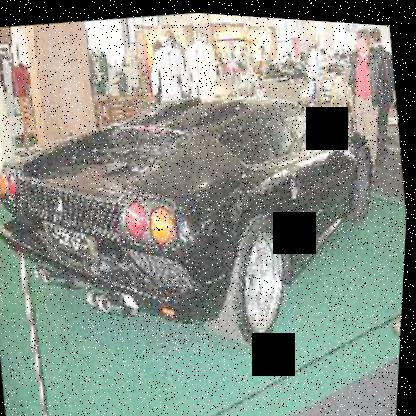not_emergency: (0, 51, 413, 376)
